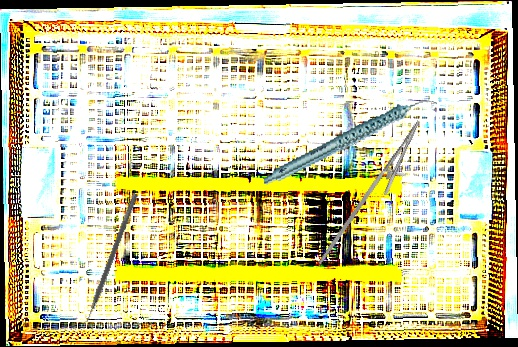Handpiece: (253, 95, 447, 186)
Needle Holder: (317, 110, 432, 281)
Spatula Surgical: (78, 190, 139, 328)
